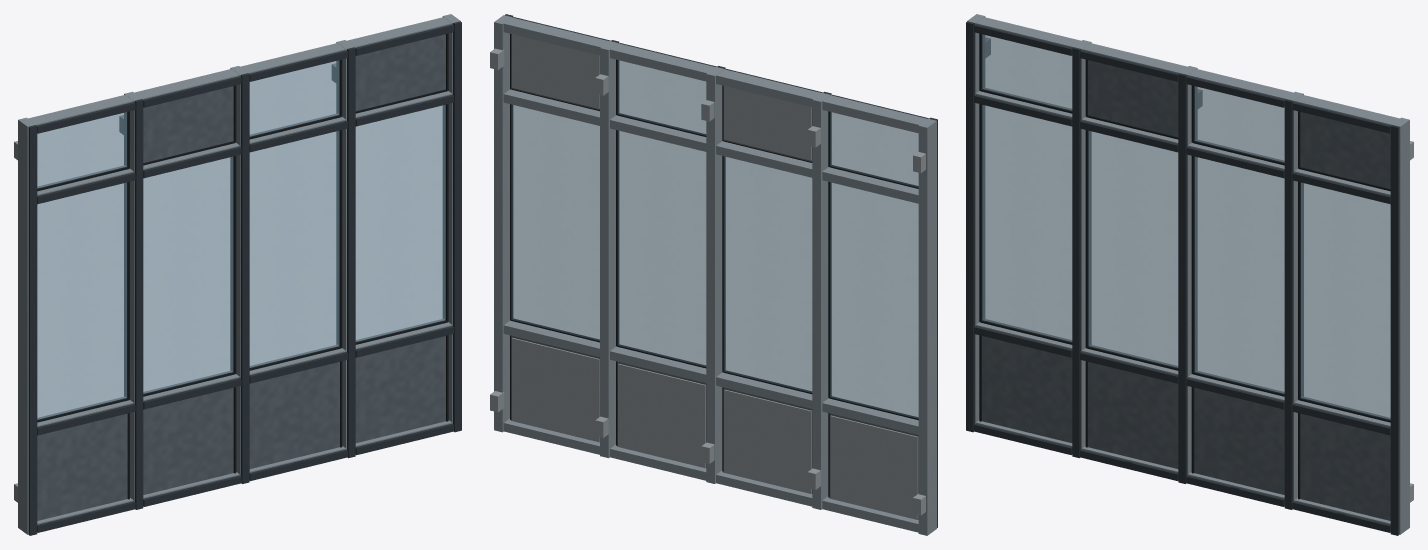
File: PROJECT_Z_Office_Tower_01_Straight_4m_Facade_Runtime.glb
3 views of the same model, side by side, from view 1: azimuth 30°, elevation 25°; view 2: azimuth 150°, elevation 25°; view 3: azimuth 330°, elevation 25° (orthographic).
Visible parts, largest first — view 1: SM_M01_Straight_4m_Facade__BATCH_REMOVABLE_CAP_M_GraphitePow, SM_M01_Straight_4m_Facade__GLASS_Panel_L02_B02, SM_M01_Straight_4m_Facade__GLASS_Panel_L02_B01, SM_M01_Straight_4m_Facade__GLASS_Panel_L02_B04, SM_M01_Straight_4m_Facade__GLASS_Panel_L02_B03, SM_M01_Straight_4m_Facade__BATCH_MULLION_M_SatinAnodizedAlum, SM_M01_Straight_4m_Facade__BATCH_TRANSOM_M_SatinAnodizedAlum, SM_M01_Straight_4m_Facade__OPAQUE_Panel_L01_B02, SM_M01_Straight_4m_Facade__OPAQUE_Panel_L01_B04, SM_M01_Straight_4m_Facade__OPAQUE_Panel_L01_B01, SM_M01_Straight_4m_Facade__OPAQUE_Panel_L01_B03, SM_M01_Straight_4m_Facade__BATCH_GASKET_M_BlackEPDMSeals (+4 smaller); view 2: SM_M01_Straight_4m_Facade__BATCH_BACK_PAN_M_GalvanizedHVACSt, SM_M01_Straight_4m_Facade__BATCH_MULLION_M_SatinAnodizedAlum, SM_M01_Straight_4m_Facade__BATCH_TRANSOM_M_SatinAnodizedAlum, SM_M01_Straight_4m_Facade__GLASS_Panel_L02_B02, SM_M01_Straight_4m_Facade__GLASS_Panel_L02_B03, SM_M01_Straight_4m_Facade__GLASS_Panel_L02_B04, SM_M01_Straight_4m_Facade__GLASS_Panel_L02_B01, SM_M01_Straight_4m_Facade__BATCH_GASKET_M_BlackEPDMSeals, SM_M01_Straight_4m_Facade__GLASS_Panel_L03_B03, SM_M01_Straight_4m_Facade__GLASS_Panel_L03_B01, SM_M01_Straight_4m_Facade__BATCH_CONNECTION_BRACKET_M_Galvan, SM_M01_Straight_4m_Facade__BATCH_REMOVABLE_CAP_M_GraphitePow; view 3: SM_M01_Straight_4m_Facade__BATCH_REMOVABLE_CAP_M_GraphitePow, SM_M01_Straight_4m_Facade__GLASS_Panel_L02_B03, SM_M01_Straight_4m_Facade__GLASS_Panel_L02_B04, SM_M01_Straight_4m_Facade__GLASS_Panel_L02_B01, SM_M01_Straight_4m_Facade__GLASS_Panel_L02_B02, SM_M01_Straight_4m_Facade__BATCH_MULLION_M_SatinAnodizedAlum, SM_M01_Straight_4m_Facade__BATCH_TRANSOM_M_SatinAnodizedAlum, SM_M01_Straight_4m_Facade__OPAQUE_Panel_L01_B03, SM_M01_Straight_4m_Facade__OPAQUE_Panel_L01_B04, SM_M01_Straight_4m_Facade__OPAQUE_Panel_L01_B01, SM_M01_Straight_4m_Facade__OPAQUE_Panel_L01_B02, SM_M01_Straight_4m_Facade__BATCH_GASKET_M_BlackEPDMSeals (+4 smaller).
Boxes of the visible parts, x1,y1,x2,y2 form: SM_M01_Straight_4m_Facade__BATCH_REMOVABLE_CAP_M_GraphitePow: (28, 21, 461, 535); SM_M01_Straight_4m_Facade__GLASS_Panel_L02_B02: (143, 156, 233, 393); SM_M01_Straight_4m_Facade__GLASS_Panel_L02_B01: (37, 182, 127, 419); SM_M01_Straight_4m_Facade__GLASS_Panel_L02_B04: (355, 105, 445, 341); SM_M01_Straight_4m_Facade__GLASS_Panel_L02_B03: (249, 131, 339, 367); SM_M01_Straight_4m_Facade__BATCH_MULLION_M_SatinAnodizedAlum: (18, 14, 460, 534); SM_M01_Straight_4m_Facade__BATCH_TRANSOM_M_SatinAnodizedAlum: (28, 17, 451, 524); SM_M01_Straight_4m_Facade__OPAQUE_Panel_L01_B02: (143, 387, 233, 494); SM_M01_Straight_4m_Facade__OPAQUE_Panel_L01_B04: (355, 336, 445, 442); SM_M01_Straight_4m_Facade__OPAQUE_Panel_L01_B01: (37, 413, 127, 520); SM_M01_Straight_4m_Facade__OPAQUE_Panel_L01_B03: (249, 362, 339, 468); SM_M01_Straight_4m_Facade__BATCH_GASKET_M_BlackEPDMSeals: (37, 33, 448, 499); SM_M01_Straight_4m_Facade__BATCH_BACK_PAN_M_GalvanizedHVACSt: (512, 34, 918, 519); SM_M01_Straight_4m_Facade__BATCH_MULLION_M_SatinAnodizedAlum: (494, 15, 936, 535); SM_M01_Straight_4m_Facade__BATCH_TRANSOM_M_SatinAnodizedAlum: (503, 17, 927, 532); SM_M01_Straight_4m_Facade__GLASS_Panel_L02_B02: (723, 156, 812, 392); SM_M01_Straight_4m_Facade__GLASS_Panel_L02_B03: (617, 130, 706, 366); SM_M01_Straight_4m_Facade__GLASS_Panel_L02_B04: (511, 104, 599, 341); SM_M01_Straight_4m_Facade__GLASS_Panel_L02_B01: (830, 182, 918, 418); SM_M01_Straight_4m_Facade__BATCH_GASKET_M_BlackEPDMSeals: (510, 33, 918, 497); SM_M01_Straight_4m_Facade__GLASS_Panel_L03_B03: (617, 60, 706, 135); SM_M01_Straight_4m_Facade__GLASS_Panel_L03_B01: (830, 112, 918, 187); SM_M01_Straight_4m_Facade__BATCH_CONNECTION_BRACKET_M_Galvan: (490, 48, 925, 515); SM_M01_Straight_4m_Facade__BATCH_REMOVABLE_CAP_M_GraphitePow: (505, 14, 937, 527); SM_M01_Straight_4m_Facade__BATCH_REMOVABLE_CAP_M_GraphitePow: (966, 21, 1399, 535); SM_M01_Straight_4m_Facade__GLASS_Panel_L02_B03: (1194, 156, 1284, 393); SM_M01_Straight_4m_Facade__GLASS_Panel_L02_B04: (1300, 182, 1390, 419); SM_M01_Straight_4m_Facade__GLASS_Panel_L02_B01: (982, 105, 1072, 341); SM_M01_Straight_4m_Facade__GLASS_Panel_L02_B02: (1088, 131, 1178, 367); SM_M01_Straight_4m_Facade__BATCH_MULLION_M_SatinAnodizedAlum: (967, 14, 1409, 534); SM_M01_Straight_4m_Facade__BATCH_TRANSOM_M_SatinAnodizedAlum: (976, 17, 1399, 524); SM_M01_Straight_4m_Facade__OPAQUE_Panel_L01_B03: (1194, 387, 1284, 494); SM_M01_Straight_4m_Facade__OPAQUE_Panel_L01_B04: (1300, 413, 1390, 520); SM_M01_Straight_4m_Facade__OPAQUE_Panel_L01_B01: (982, 336, 1072, 442); SM_M01_Straight_4m_Facade__OPAQUE_Panel_L01_B02: (1088, 362, 1178, 468); SM_M01_Straight_4m_Facade__BATCH_GASKET_M_BlackEPDMSeals: (979, 33, 1390, 499).
Bounding box in the file's own units: 4 × 3.6 × 0.264.
6 materials, 6 textured.
